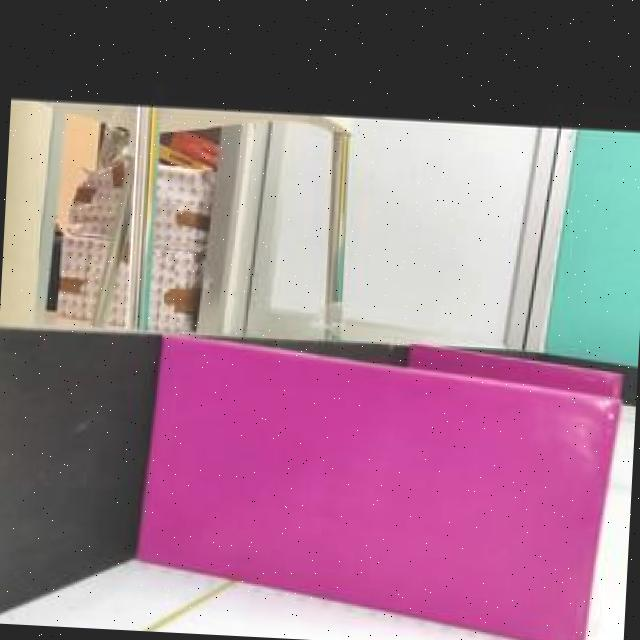xparking: (140, 336, 616, 640), (412, 345, 621, 397)
